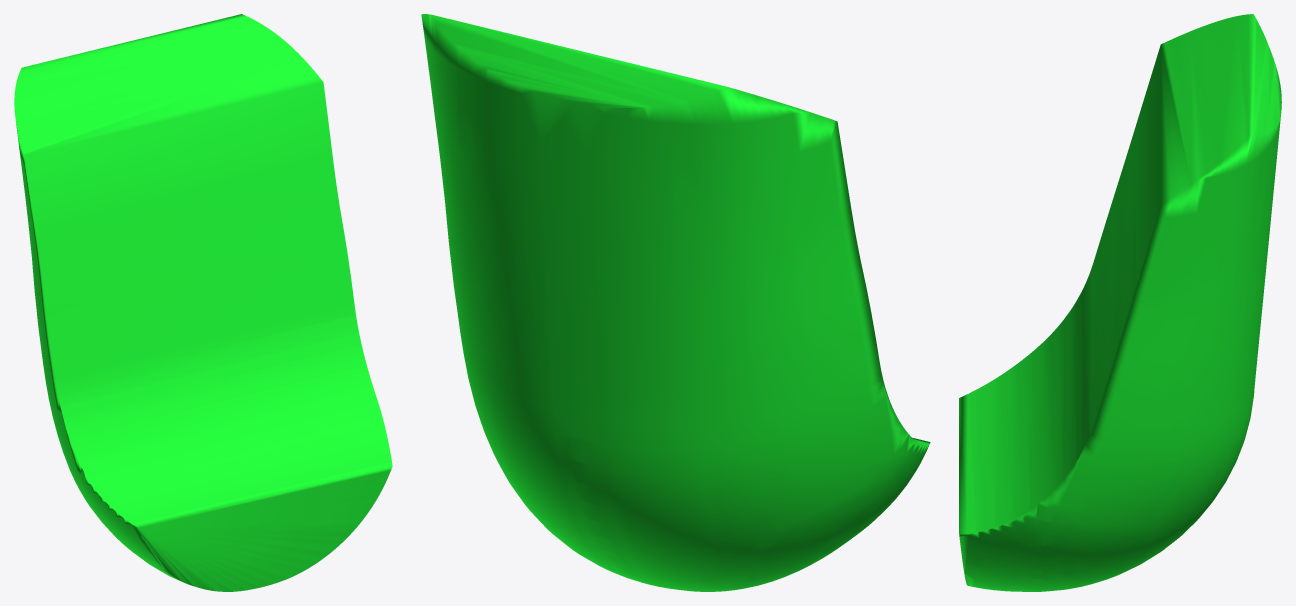
Rendered from right_elastomer_HB1_4F_1aff33.glb.
3 views of the same model, side by side, from view 1: azimuth 30°, elevation 25°; view 2: azimuth 150°, elevation 25°; view 3: azimuth 270°, elevation 25° (orthographic). The views are drawn at different scales.
Parts seen in each view (by area): view 1: elastomer_HB1_4F_0; view 2: elastomer_HB1_4F_0; view 3: elastomer_HB1_4F_0.
Boxes of the visible parts, x1,y1,x2,y2 form: elastomer_HB1_4F_0: (14,14,392,591); elastomer_HB1_4F_0: (421,14,930,591); elastomer_HB1_4F_0: (959,14,1281,591).
Size of the model in its own units: 0.0137 by 0.0199 by 0.0116.
